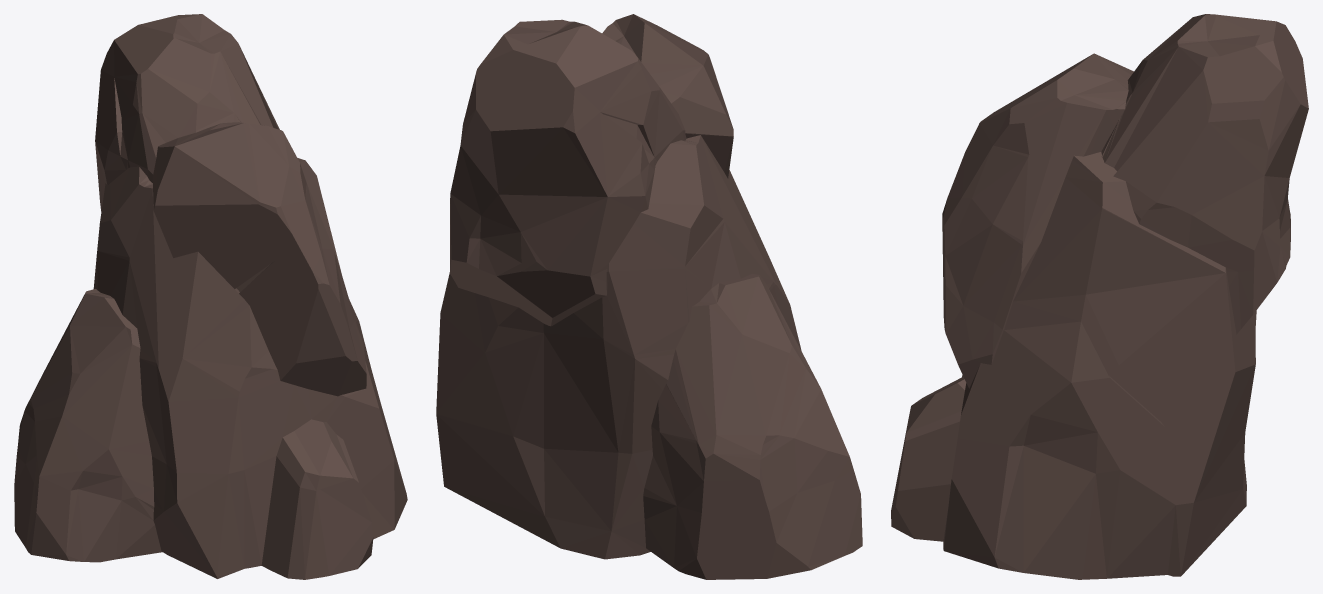
File: Rock 11.fbx
3 renders of one model, left to right at view 1: azimuth 30°, elevation 25°; view 2: azimuth 150°, elevation 25°; view 3: azimuth 270°, elevation 25°, orthographic. The views are drawn at different scales.
Visible parts, largest first — view 1: Cliff shard 11; view 2: Cliff shard 11; view 3: Cliff shard 11.
Part boxes in pixels (x1=…): Cliff shard 11: x1=14, y1=14, x2=407, y2=579; Cliff shard 11: x1=436, y1=14, x2=862, y2=579; Cliff shard 11: x1=891, y1=14, x2=1308, y2=579.
Bounding box in the file's own units: 2 × 2.5 × 1.93.
